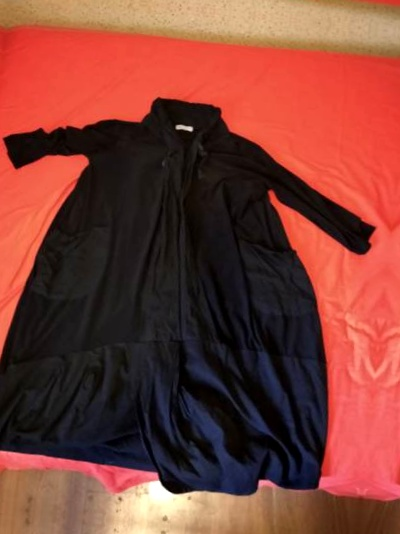Dress: (0, 72, 389, 504), (376, 119, 400, 534)
